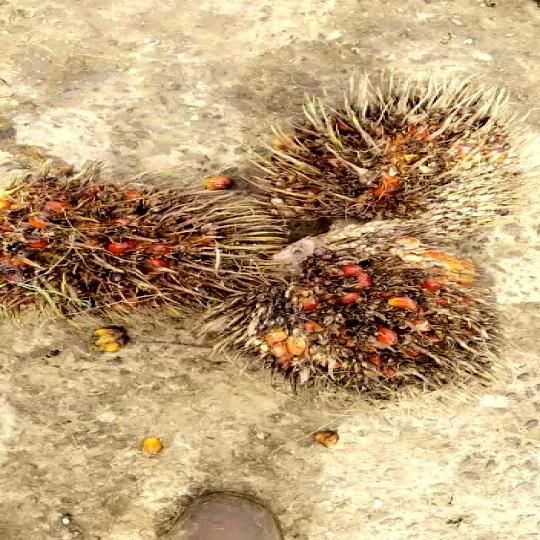terlalu masak: (230, 72, 530, 249), (0, 160, 291, 334), (244, 224, 506, 396)
